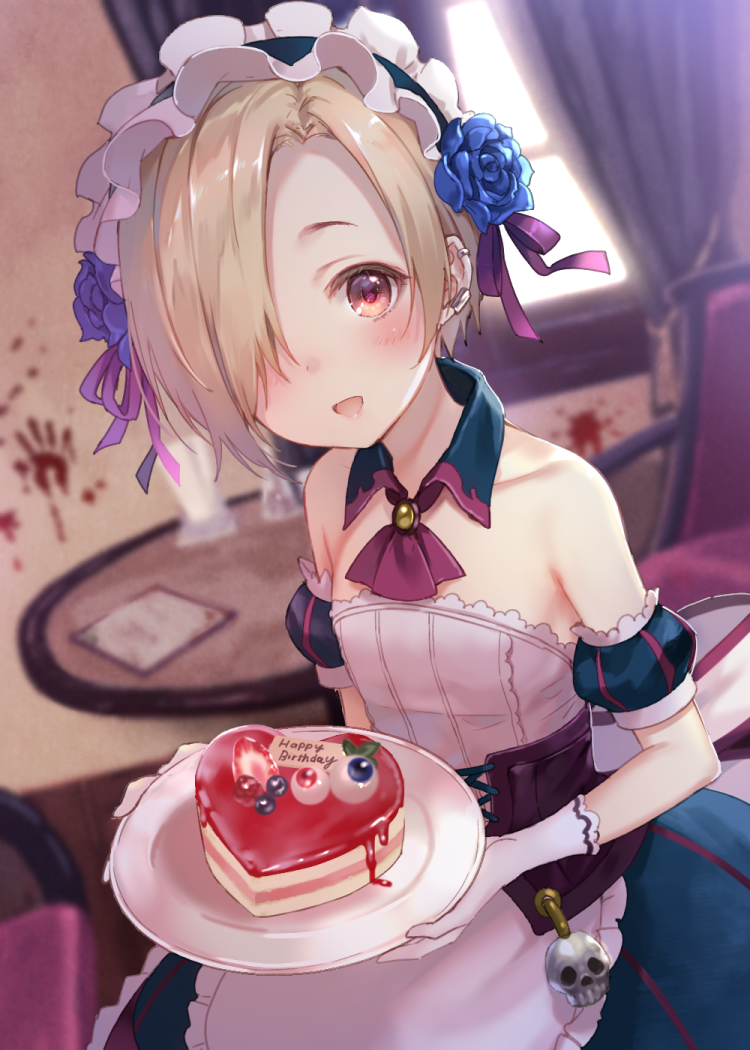纸片人正脸: (121, 57, 479, 466), (195, 725, 409, 890)
